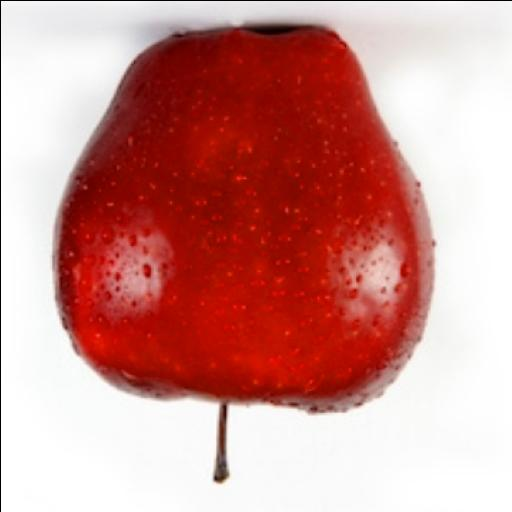apple: (55, 28, 433, 410)
